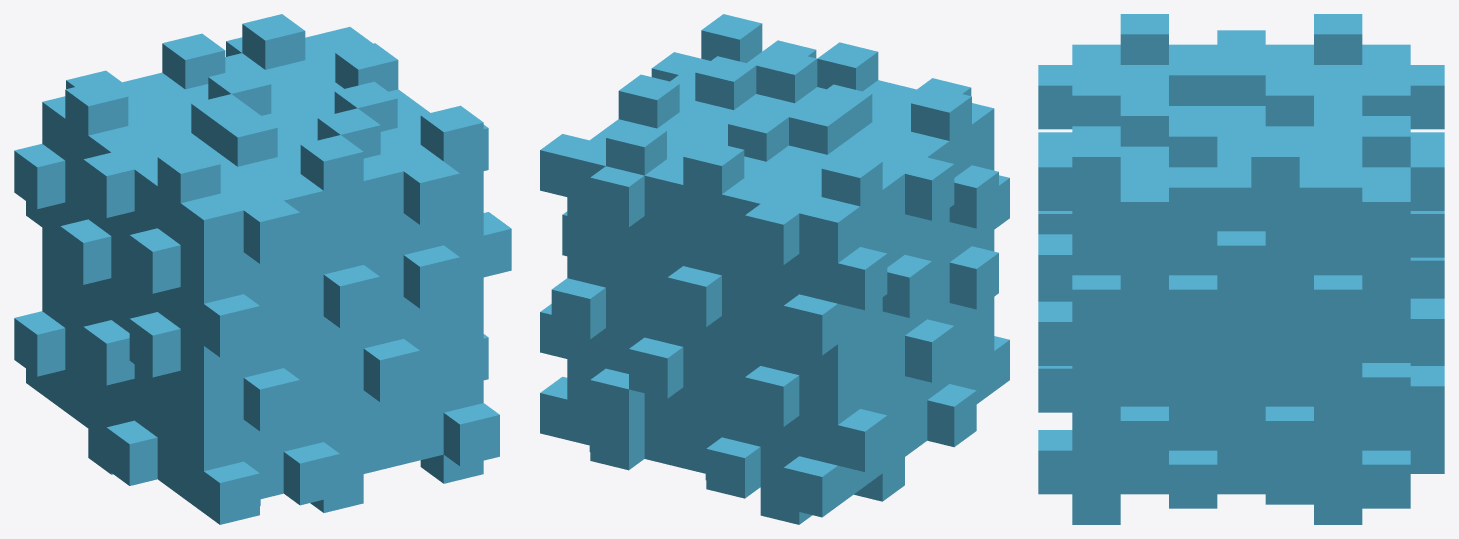
The model's file is ice.fbx.
The picture shows the model from 3 angles, left to right: view 1: azimuth 30°, elevation 25°; view 2: azimuth 150°, elevation 25°; view 3: azimuth 270°, elevation 25°; orthographic projection. The views are drawn at different scales.
Visible parts, largest first — view 1: Cube; view 2: Cube; view 3: Cube.
Part boxes in pixels (x1,y1,x2,y2): Cube: (14, 14, 511, 524); Cube: (540, 14, 1009, 524); Cube: (1038, 14, 1444, 524).
Size of the model in its own units: 240 by 240 by 240.
